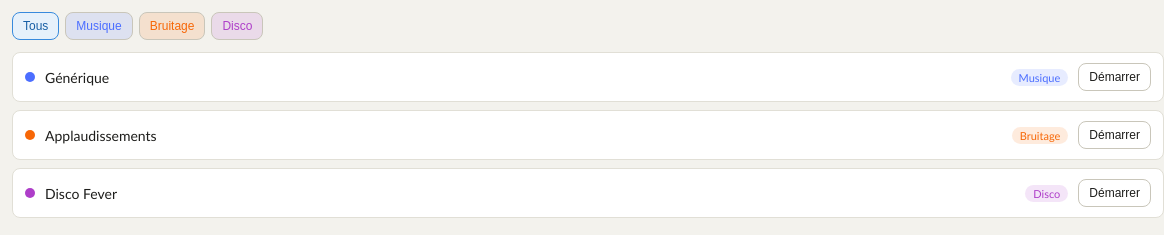
Test: RegieTrackPicker › filters tracks by tag when a tag tab is clicked
Click the button "Bruitage" at (172, 26), box [139,12,205,40]
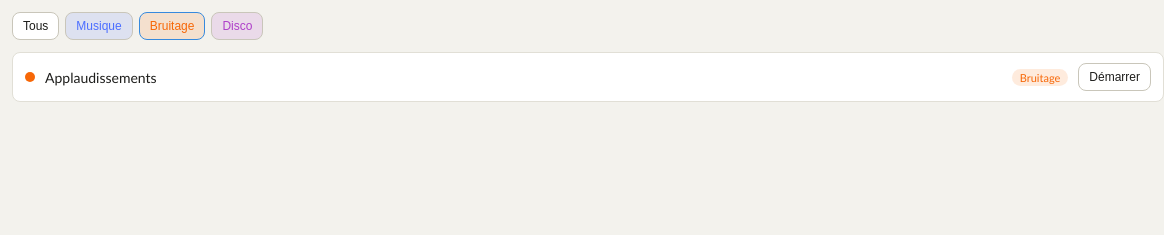
Expected: the text "Applaudissements" is shown, [45,68,157,86]
Expected: the text "Générique" is gone
Expected: the text "Disco Fever" is gone
